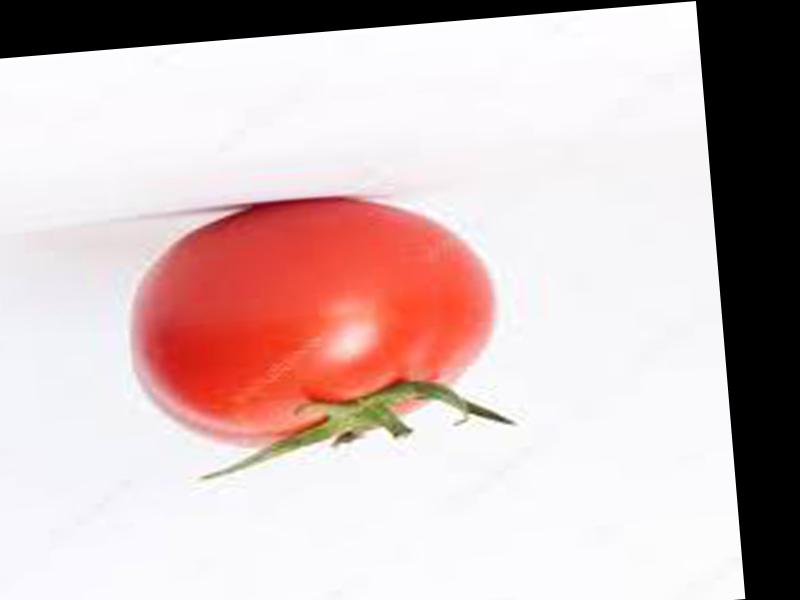Tomato: (115, 183, 503, 454)
